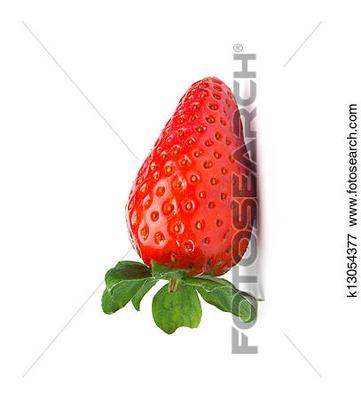strawberry: (0, 0, 361, 400)
